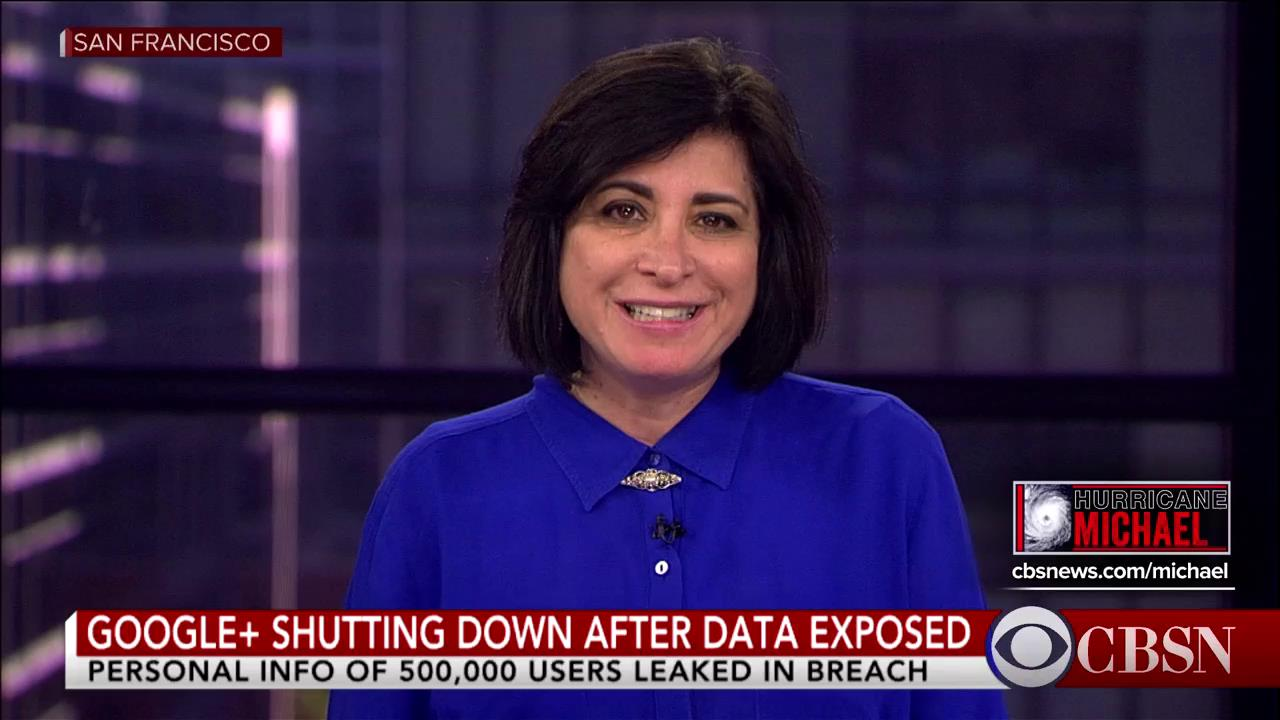CBSN: (1075, 621, 1239, 678)
GOOGLE+ SHUTTING DOWN AFTER DATA EXPOSED: (84, 610, 975, 651)
HURRICANE: (1070, 487, 1228, 510)
MICHAEL: (1071, 509, 1208, 547)
PERSONAL INFO OF 500__000 USERS LEAKED IN BREACH: (86, 656, 932, 685)
SAN FRANCISCO: (74, 30, 271, 52)
cbsnews.com/michael: (1011, 558, 1229, 583)
